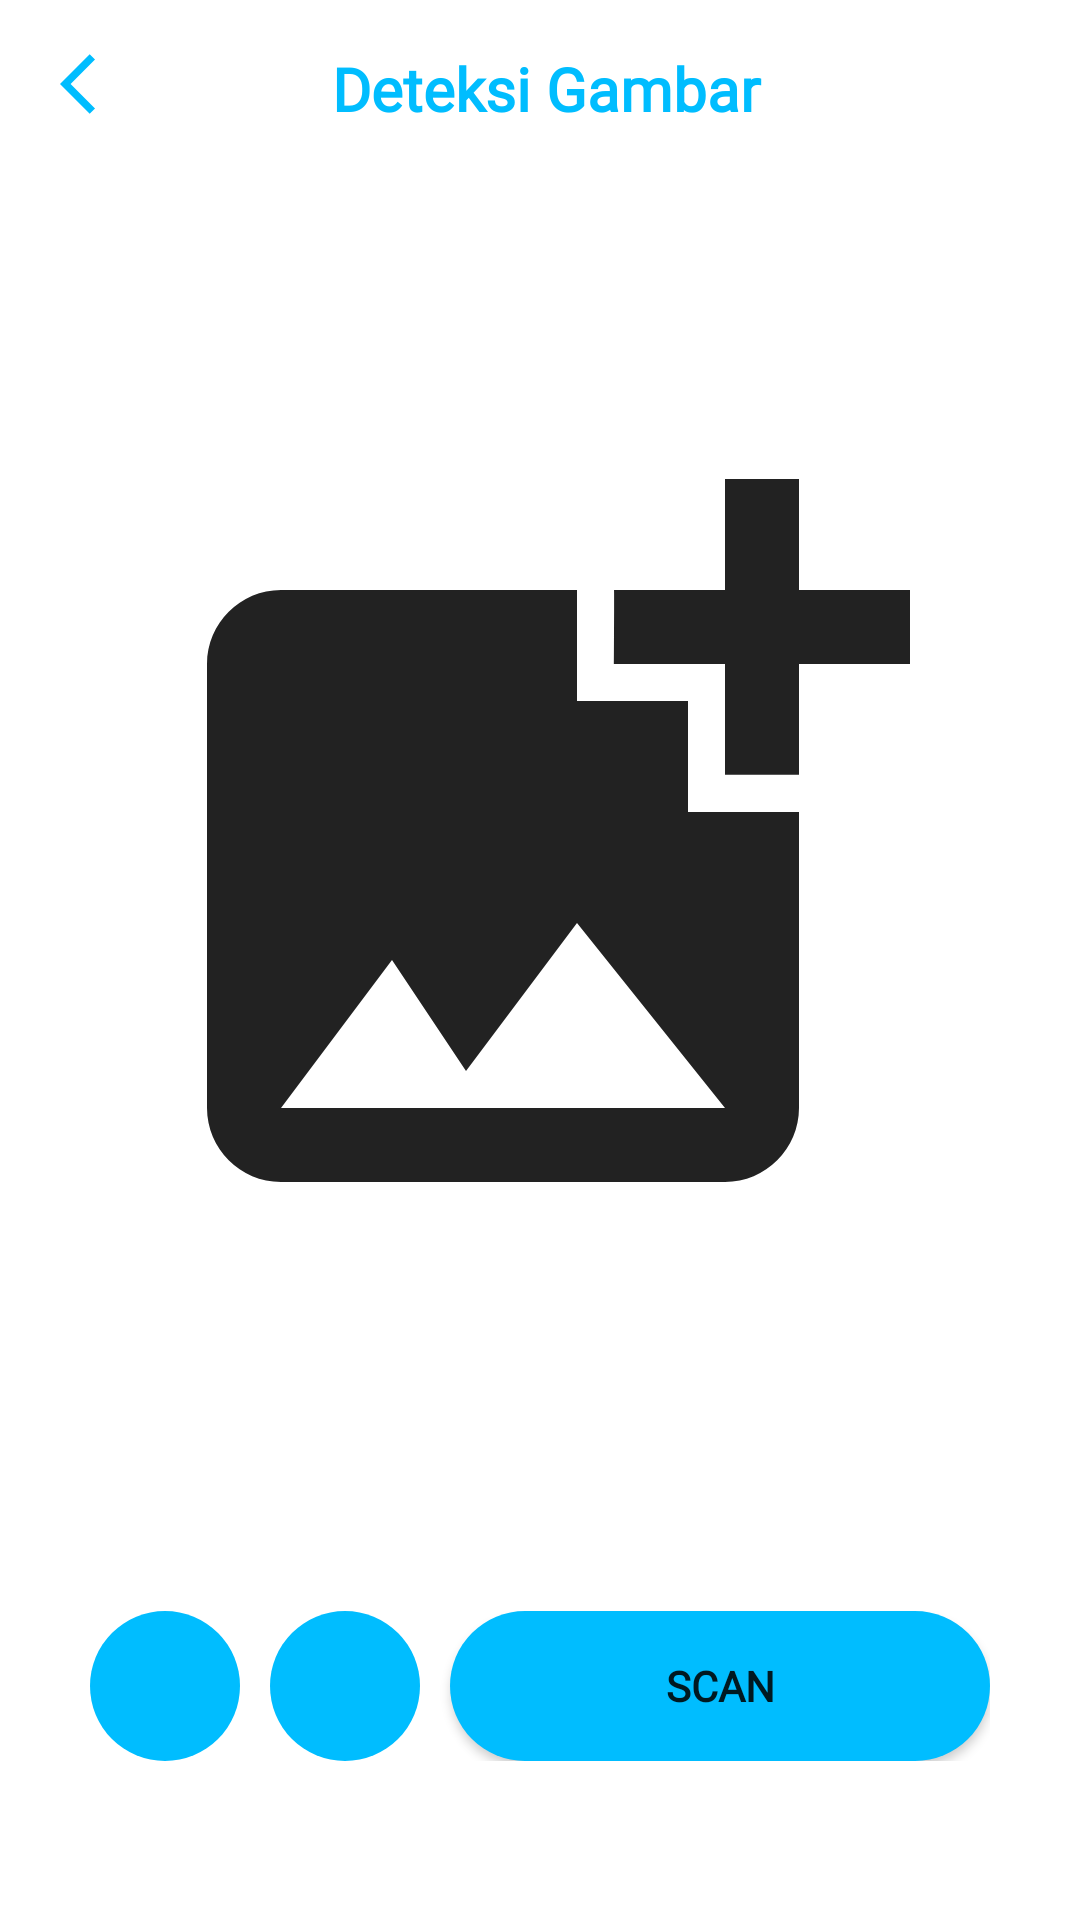

Screen size 1080 x 1920. Icon name, then its box in pixels as bbox=[x1, y1, x2, y2]:
back: bbox=[60, 54, 95, 114]
